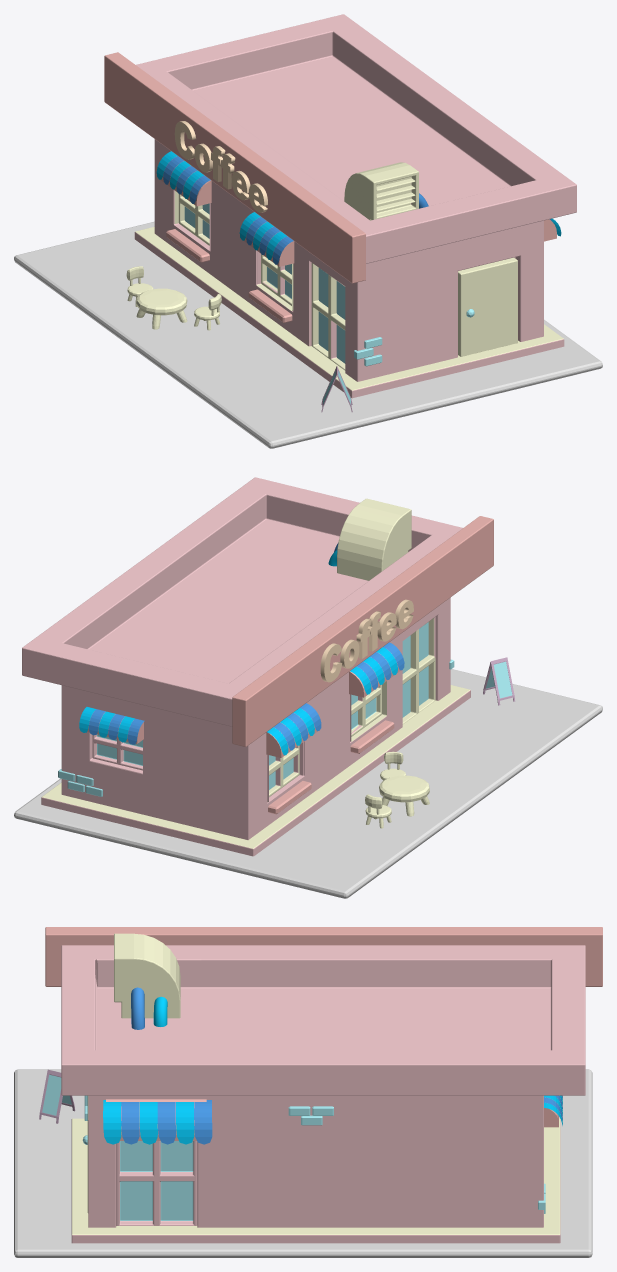
The model's file is Gebouw3_Tinka(Restaurant).fbx.
3 renders of one model, top to bottom at view 1: azimuth 30°, elevation 25°; view 2: azimuth 150°, elevation 25°; view 3: azimuth 270°, elevation 25°, orthographic. The views are drawn at different scales.
Parts seen in each view (by area): view 1: Cube, Plane, Text, Cube.020, Cube.002, Circle, Cube.003, Cube.022; view 2: Cube, Plane, Text, Cube.016, Cube.020, Cube.002, Circle, Plane.001, Cube.003, Cube.022; view 3: Cube, Plane, Cube.018, Plane.001, NurbsPath.001, Cube.019.
Part boxes in pixels (x1,y1,x2,y2): Cube: [104, 14, 576, 398]; Plane: [14, 221, 602, 448]; Text: [174, 121, 267, 212]; Cube.020: [156, 151, 210, 203]; Cube.002: [239, 212, 293, 264]; Circle: [136, 288, 187, 315]; Cube.003: [248, 289, 292, 322]; Cube.022: [166, 229, 209, 262]; Cube: [22, 477, 493, 856]; Plane: [14, 669, 602, 898]; Text: [320, 599, 413, 682]; Cube.016: [79, 707, 144, 744]; Cube.020: [267, 703, 321, 755]; Cube.002: [350, 642, 404, 694]; Circle: [379, 775, 429, 802]; Plane.001: [483, 657, 515, 705]; Cube.003: [350, 720, 394, 753]; Cube.022: [268, 781, 311, 814]; Cube: [45, 927, 602, 1243]; Plane: [14, 1069, 592, 1257]; Cube.018: [103, 1100, 212, 1144]; Plane.001: [39, 1069, 75, 1123]; NurbsPath.001: [131, 987, 144, 1029]; Cube.019: [106, 1099, 206, 1140].
Size of the model in its own units: 3990 by 2275 by 5421.
